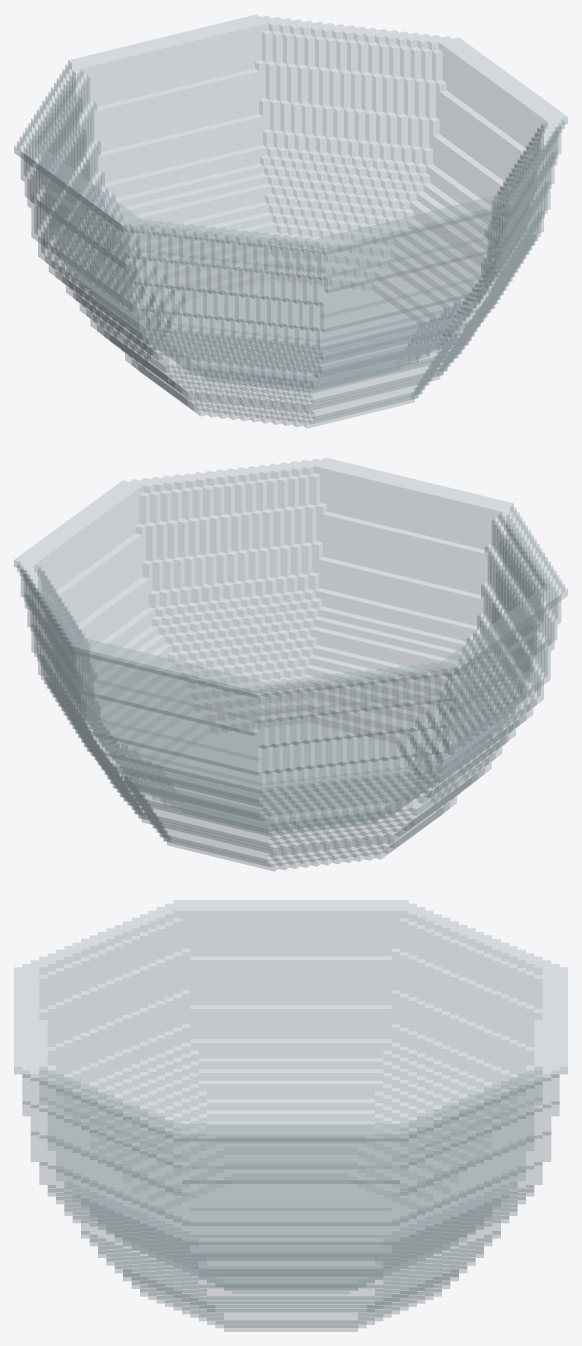
Rendered from glass_bowl.glb.
The picture shows the model from 3 angles, top to bottom: view 1: azimuth 30°, elevation 25°; view 2: azimuth 150°, elevation 25°; view 3: azimuth 270°, elevation 25°; orthographic projection. The views are drawn at different scales.
Parts seen in each view (by area): view 1: glass_bowl:compound; view 2: glass_bowl:compound; view 3: glass_bowl:compound.
Boxes of the visible parts, bbox=[...] form: glass_bowl:compound: bbox=[14, 14, 567, 428]; glass_bowl:compound: bbox=[14, 457, 567, 871]; glass_bowl:compound: bbox=[14, 900, 567, 1331].
Bounding box in the file's own units: 0.132 × 0.066 × 0.132.
